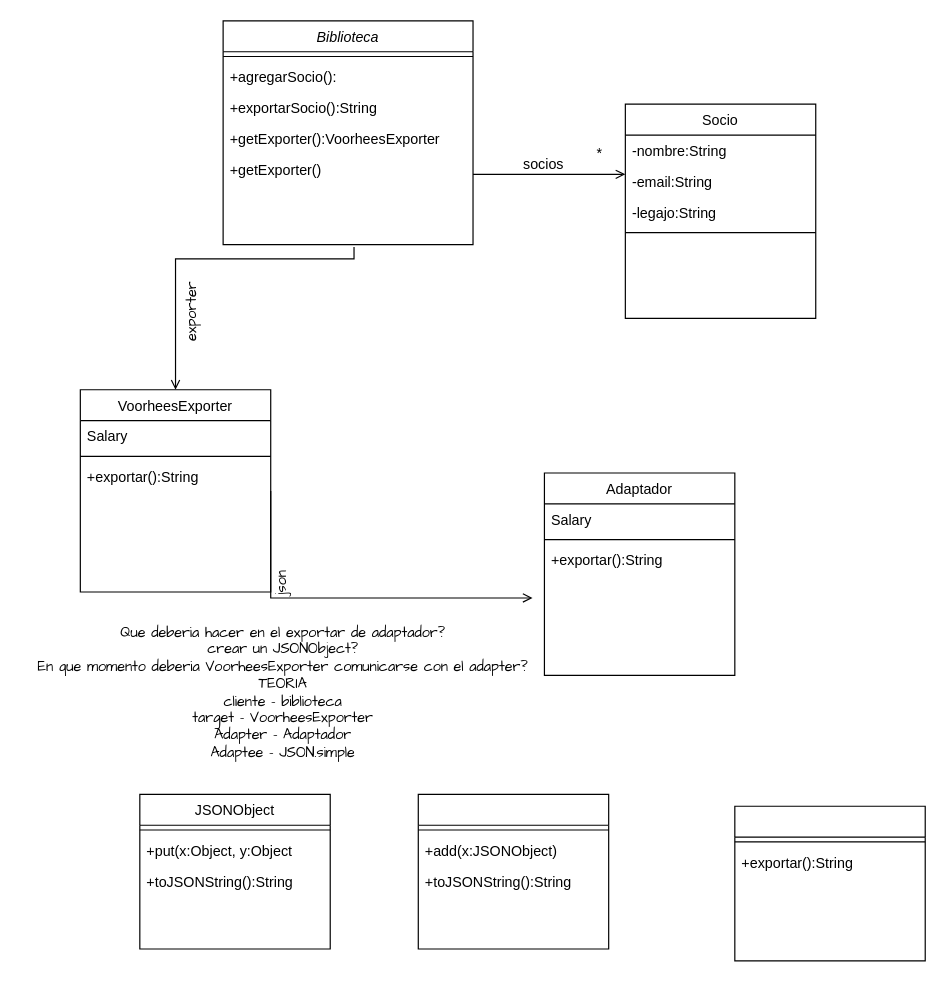
This 946x982 diagram has some shape labels left out. The box of each missing label's shape, as (x1, y1, x2, y2) in pixels:
JSONArray: (417, 793, 609, 949)
JSONParser: (734, 805, 925, 961)
